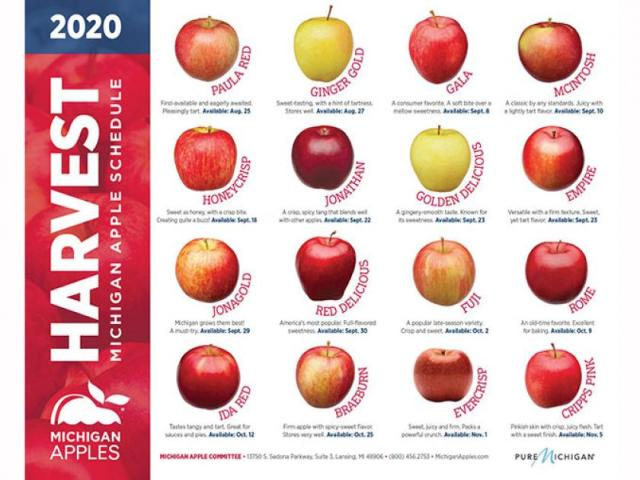apple: (174, 237, 241, 302), (174, 17, 240, 82), (520, 125, 584, 190), (174, 126, 238, 190), (413, 239, 475, 305), (176, 346, 242, 408), (291, 125, 353, 190), (519, 20, 583, 82), (295, 234, 355, 300), (408, 15, 467, 82), (524, 242, 588, 303), (296, 343, 354, 407), (524, 348, 582, 407), (413, 347, 472, 404)
